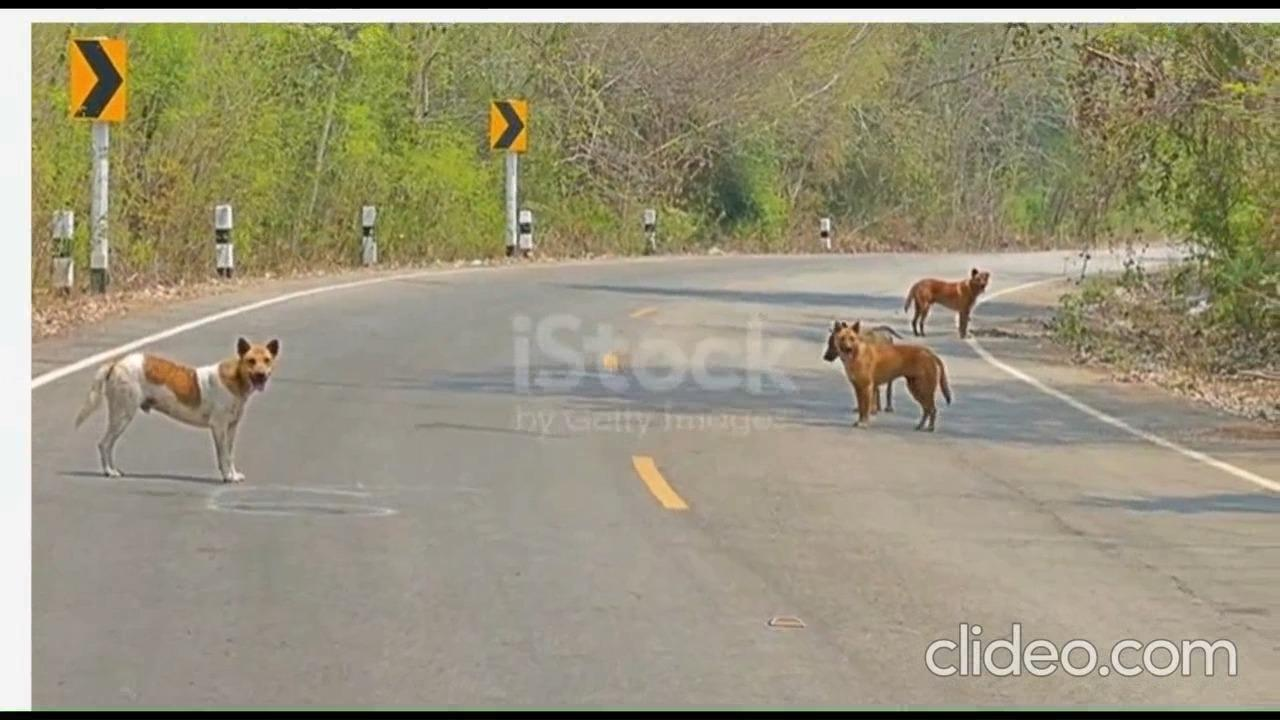dog: (60, 330, 279, 489), (830, 315, 954, 430), (893, 265, 987, 345)
